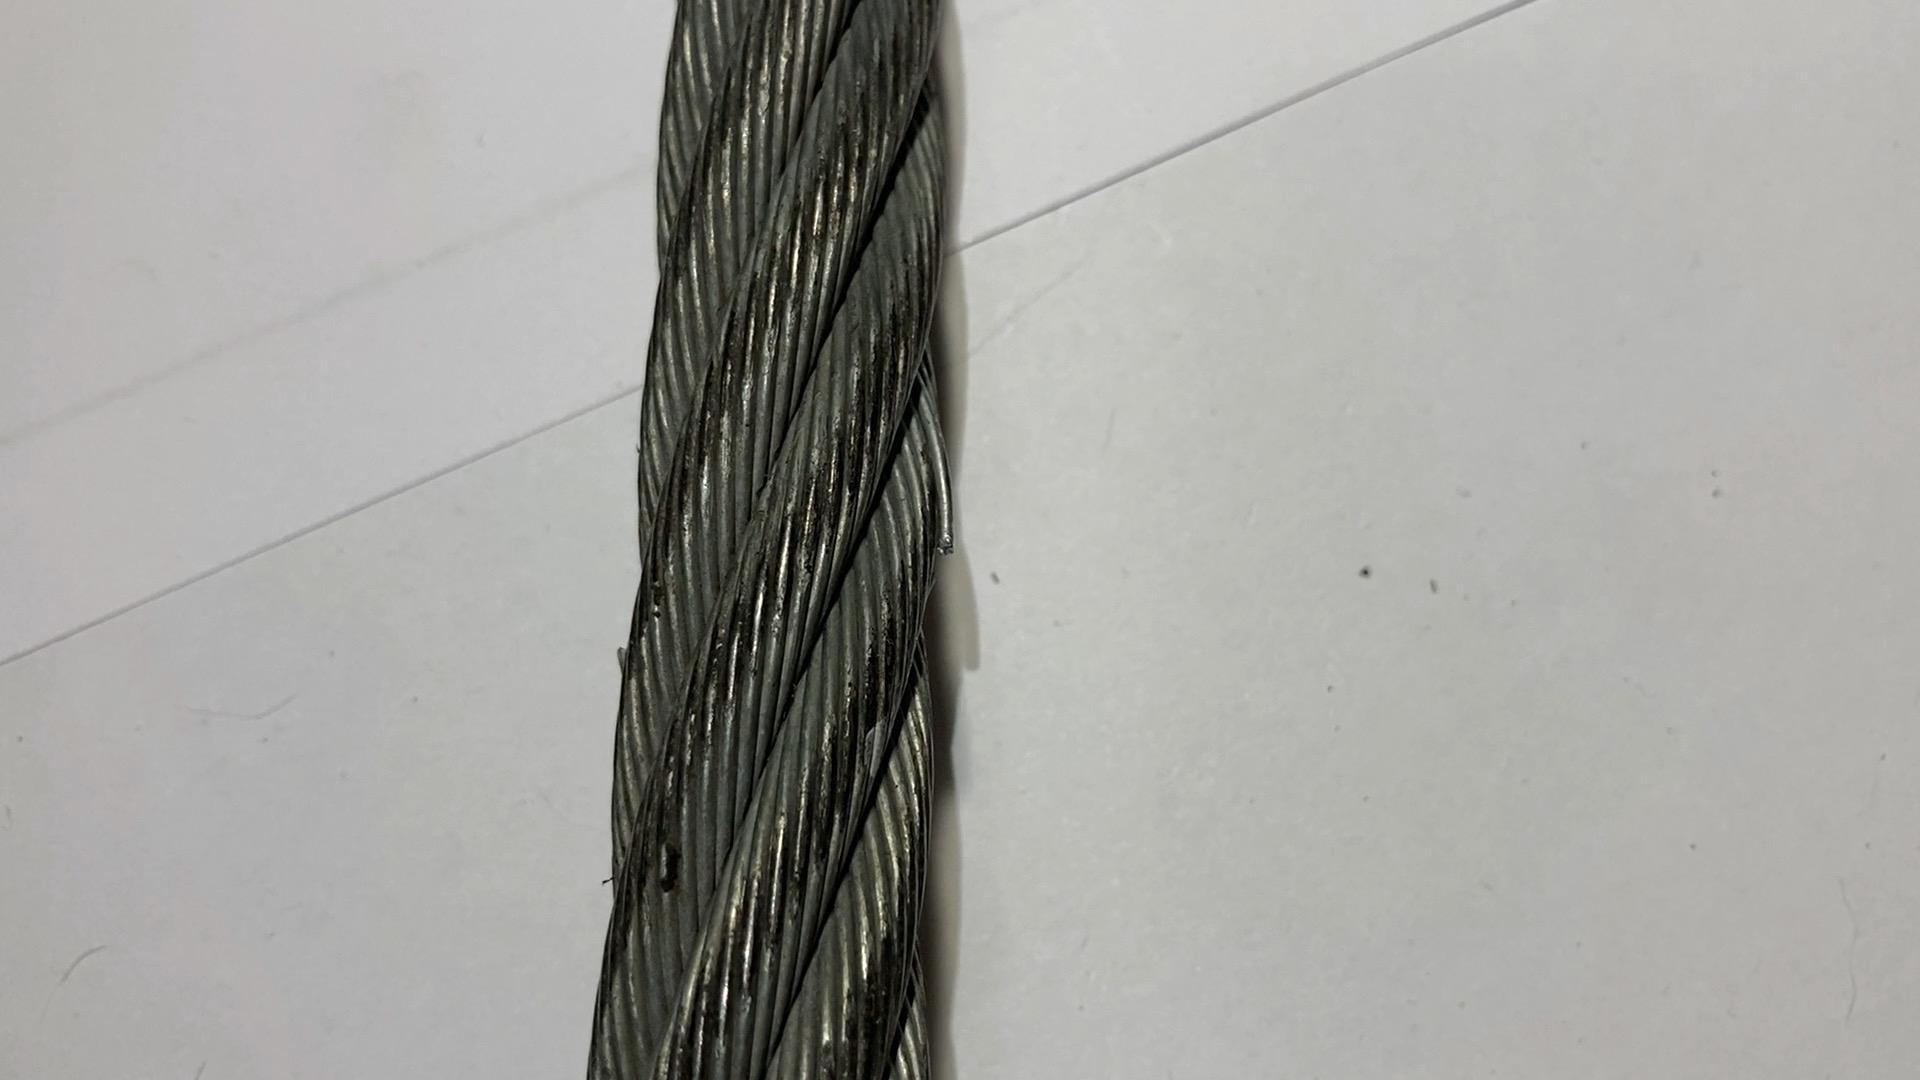break: (915, 386, 971, 560)
